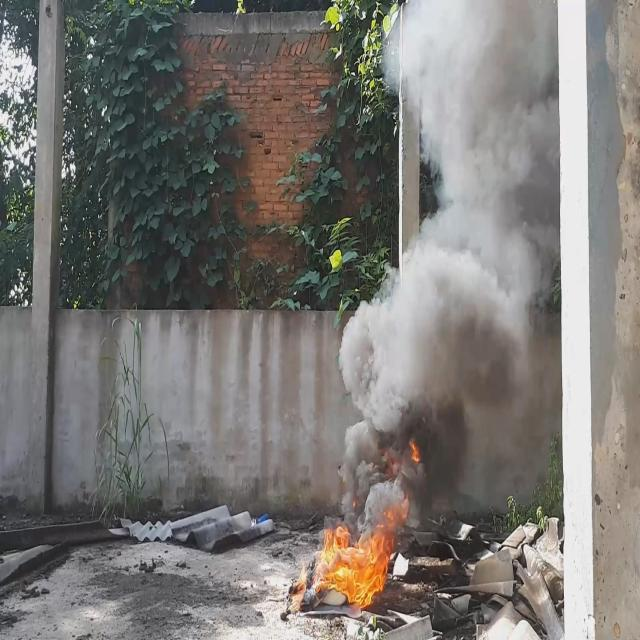Fire: (315, 501, 403, 610)
Smoke: (338, 0, 558, 536)
